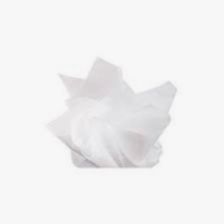tissue: (41, 51, 183, 173)
